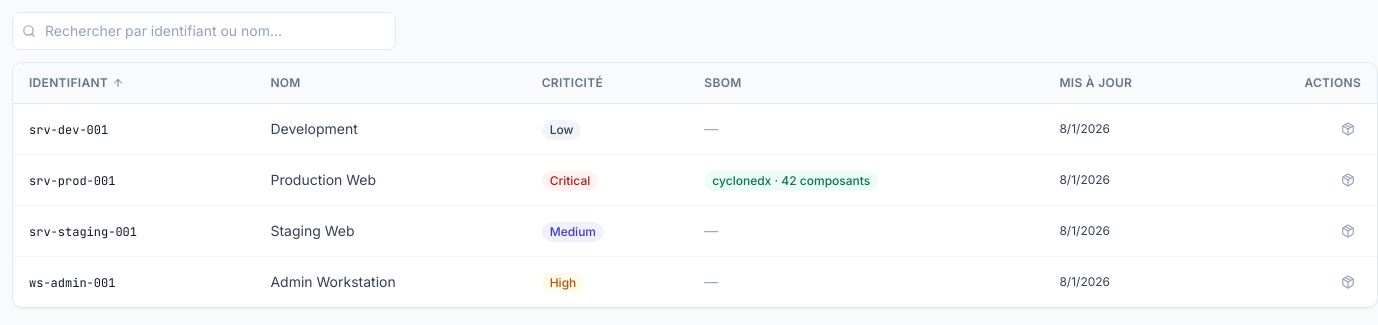
Test: AssetsTable › trie la criticité dans l’ordre métier, pas alphabétique
Click the button "Criticité": (572, 83) x1=542 y1=75 x2=603 y2=91
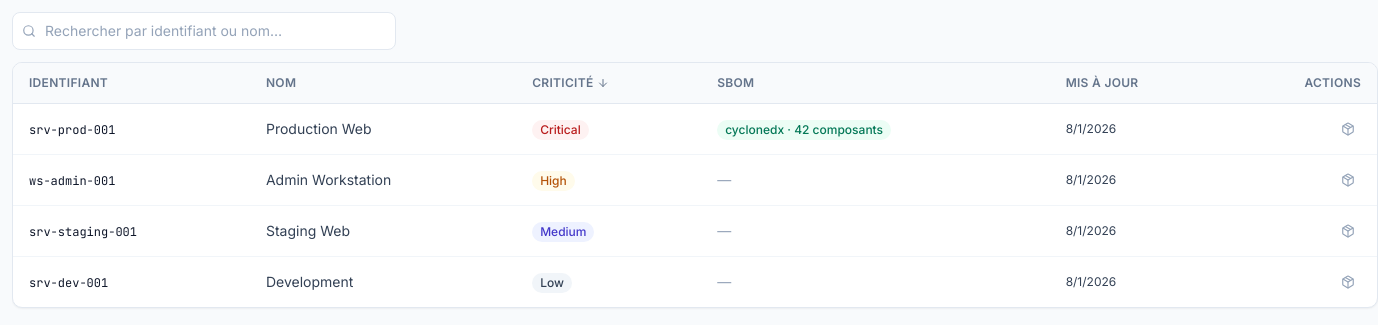
Result: the elements with test id "asset-id" read "srv-prod-001", "ws-admin-001", "srv-staging-001", "srv-dev-001", in this order at x1=29 y1=122 x2=115 y2=138; x1=29 y1=173 x2=115 y2=189; x1=29 y1=224 x2=137 y2=240; x1=29 y1=275 x2=108 y2=291
Click the button "Criticité": (571, 83) x1=532 y1=75 x2=610 y2=91
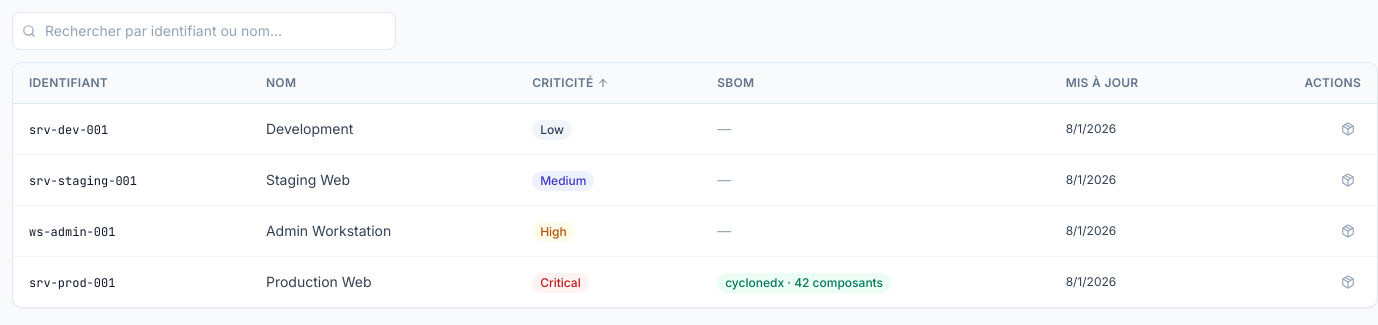
Result: the elements with test id "asset-id" read "srv-dev-001", "srv-staging-001", "ws-admin-001", "srv-prod-001", in this order at x1=29 y1=122 x2=108 y2=138; x1=29 y1=173 x2=137 y2=189; x1=29 y1=224 x2=115 y2=240; x1=29 y1=275 x2=115 y2=291
